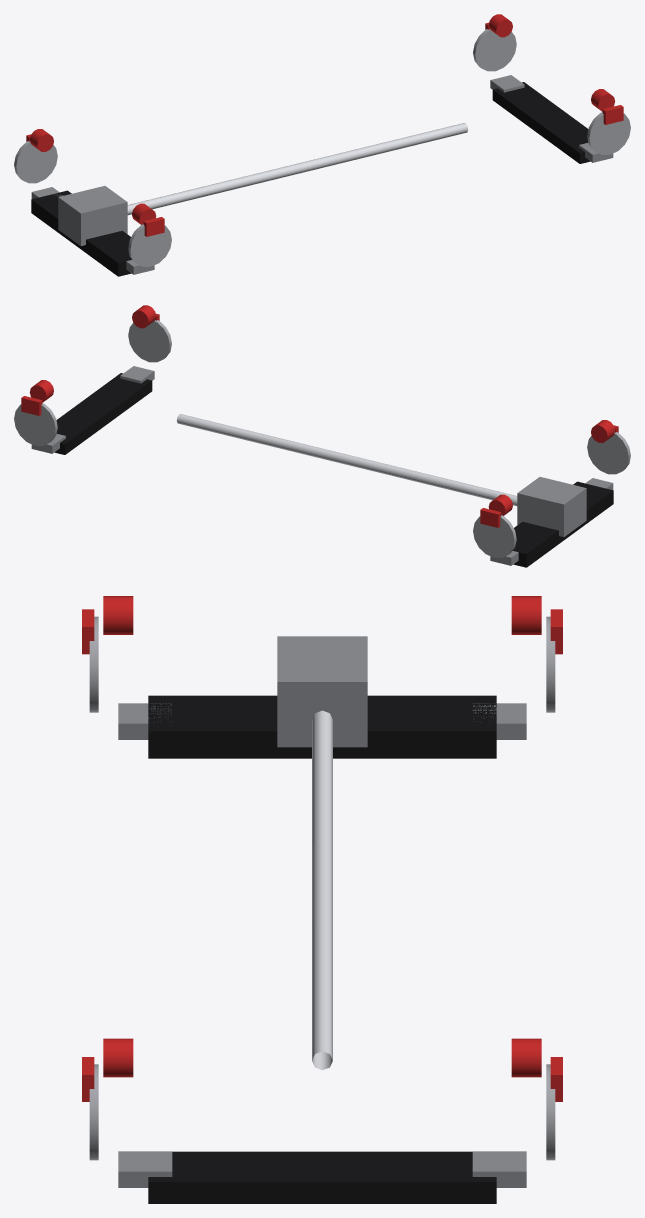
The model's file is suspension_drivetrain.obj.
The picture shows the model from 3 angles, top to bottom: view 1: azimuth 30°, elevation 25°; view 2: azimuth 150°, elevation 25°; view 3: azimuth 270°, elevation 25°; orthographic projection. The views are drawn at different scales.
Parts seen in each view (by area): view 1: Suspension_Drivetrain; view 2: Suspension_Drivetrain; view 3: Suspension_Drivetrain.
Part boxes in pixels (bbox=[...]): Suspension_Drivetrain: bbox=[14, 14, 630, 276]; Suspension_Drivetrain: bbox=[14, 305, 630, 567]; Suspension_Drivetrain: bbox=[82, 596, 562, 1203].
Size of the model in its own units: 3.87 by 0.545 by 1.6.
